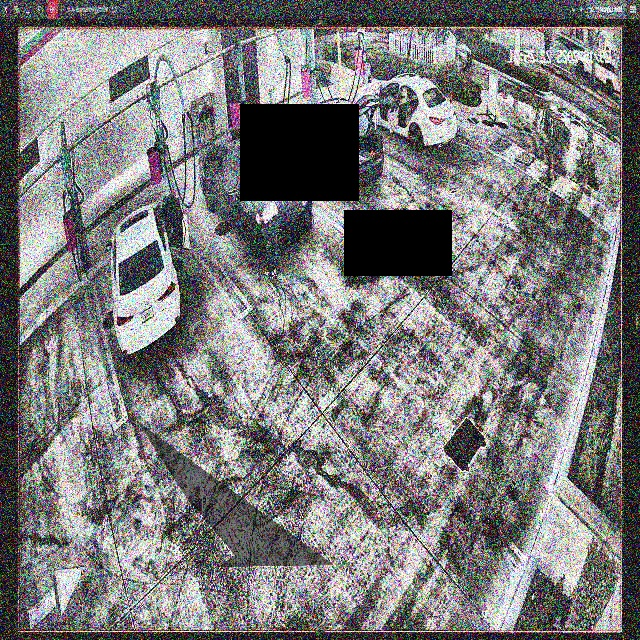Car: (198, 132, 312, 250), (106, 198, 186, 360), (277, 94, 383, 202), (351, 72, 456, 162)
